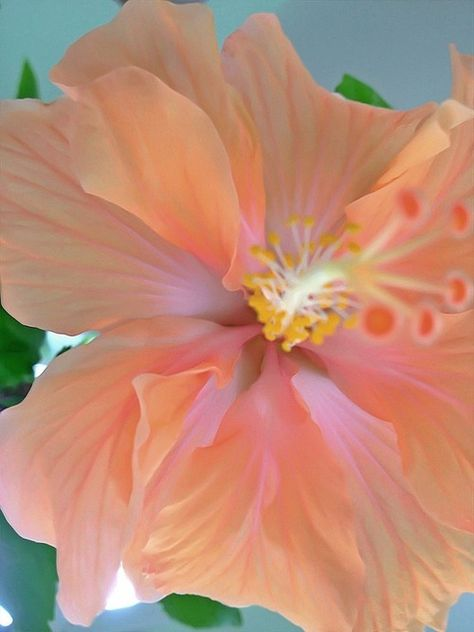Hibiscus: (1, 22, 473, 631)
